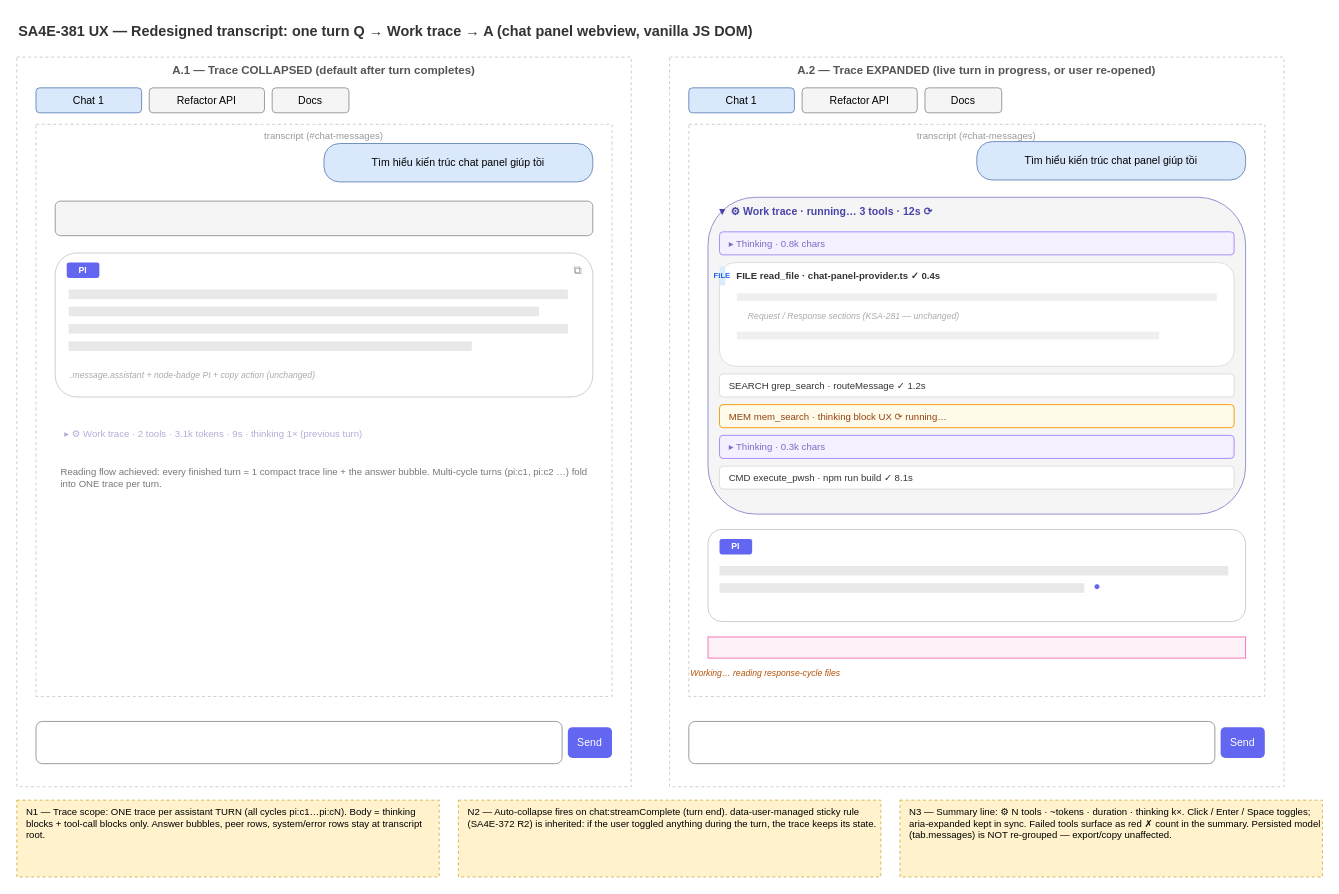
Some shapes in this 1339 by 894 pixel diagram are drawn without their labels. Here are the shapes that lost their labels. From the top down, the centre of each, then its label:
the point at 323,218: ▸ ⚙ Work trace · 6 tools · 14.2k tokens · 23s · thinking 2×
the point at 976,647: ⇘ [Peer inbound] from tab …a1b2c3d4 (SM) — task peer-7f … (stays OUTSIDE trace)
